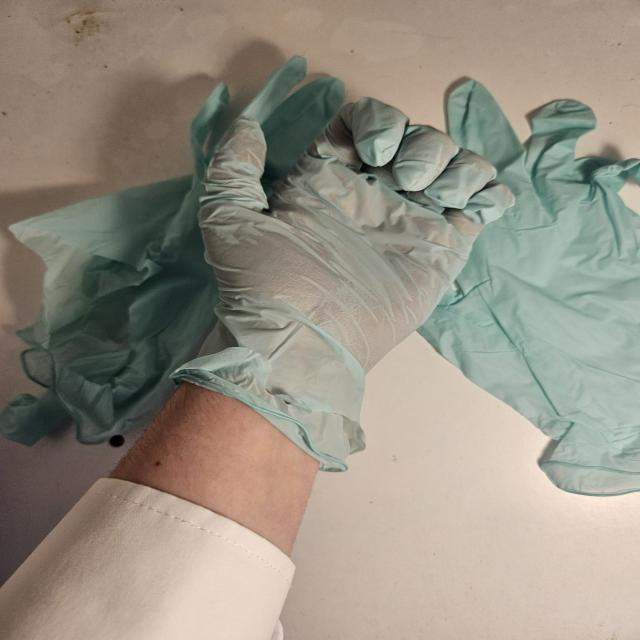gloves_damaged: (172, 98, 515, 471)
